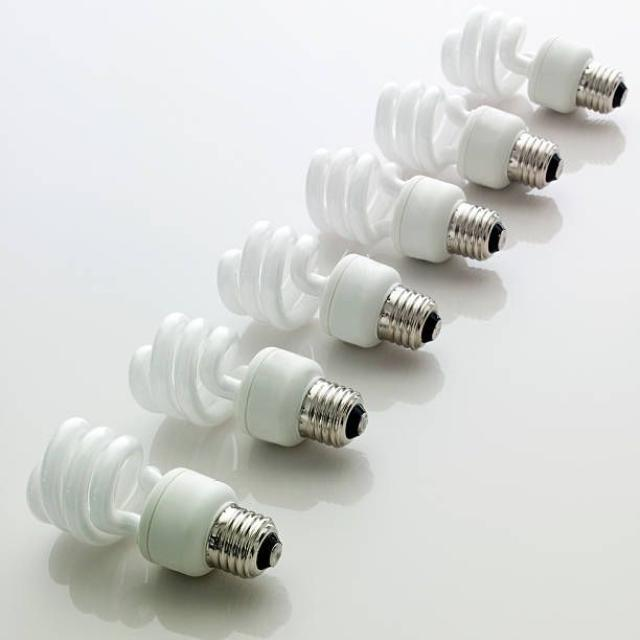electronic: (25, 7, 628, 580), (25, 416, 282, 580), (127, 310, 368, 450), (215, 218, 442, 352), (304, 146, 506, 264), (372, 80, 564, 192), (440, 5, 628, 116), (233, 344, 368, 450), (317, 251, 442, 351)
